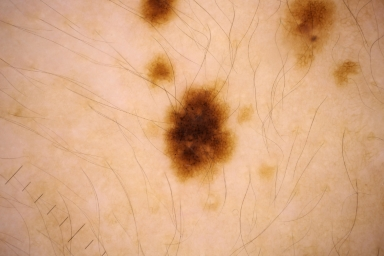nevus: (158, 89, 232, 183), (153, 63, 169, 81)
